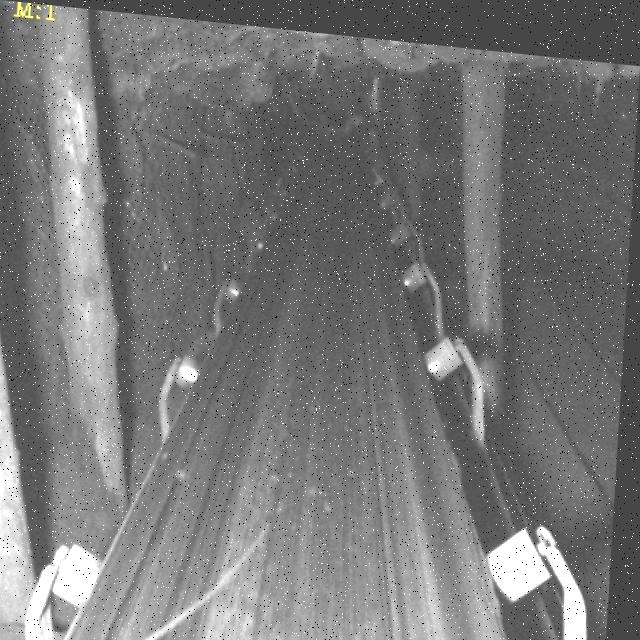bolt: (108, 505, 286, 640)
